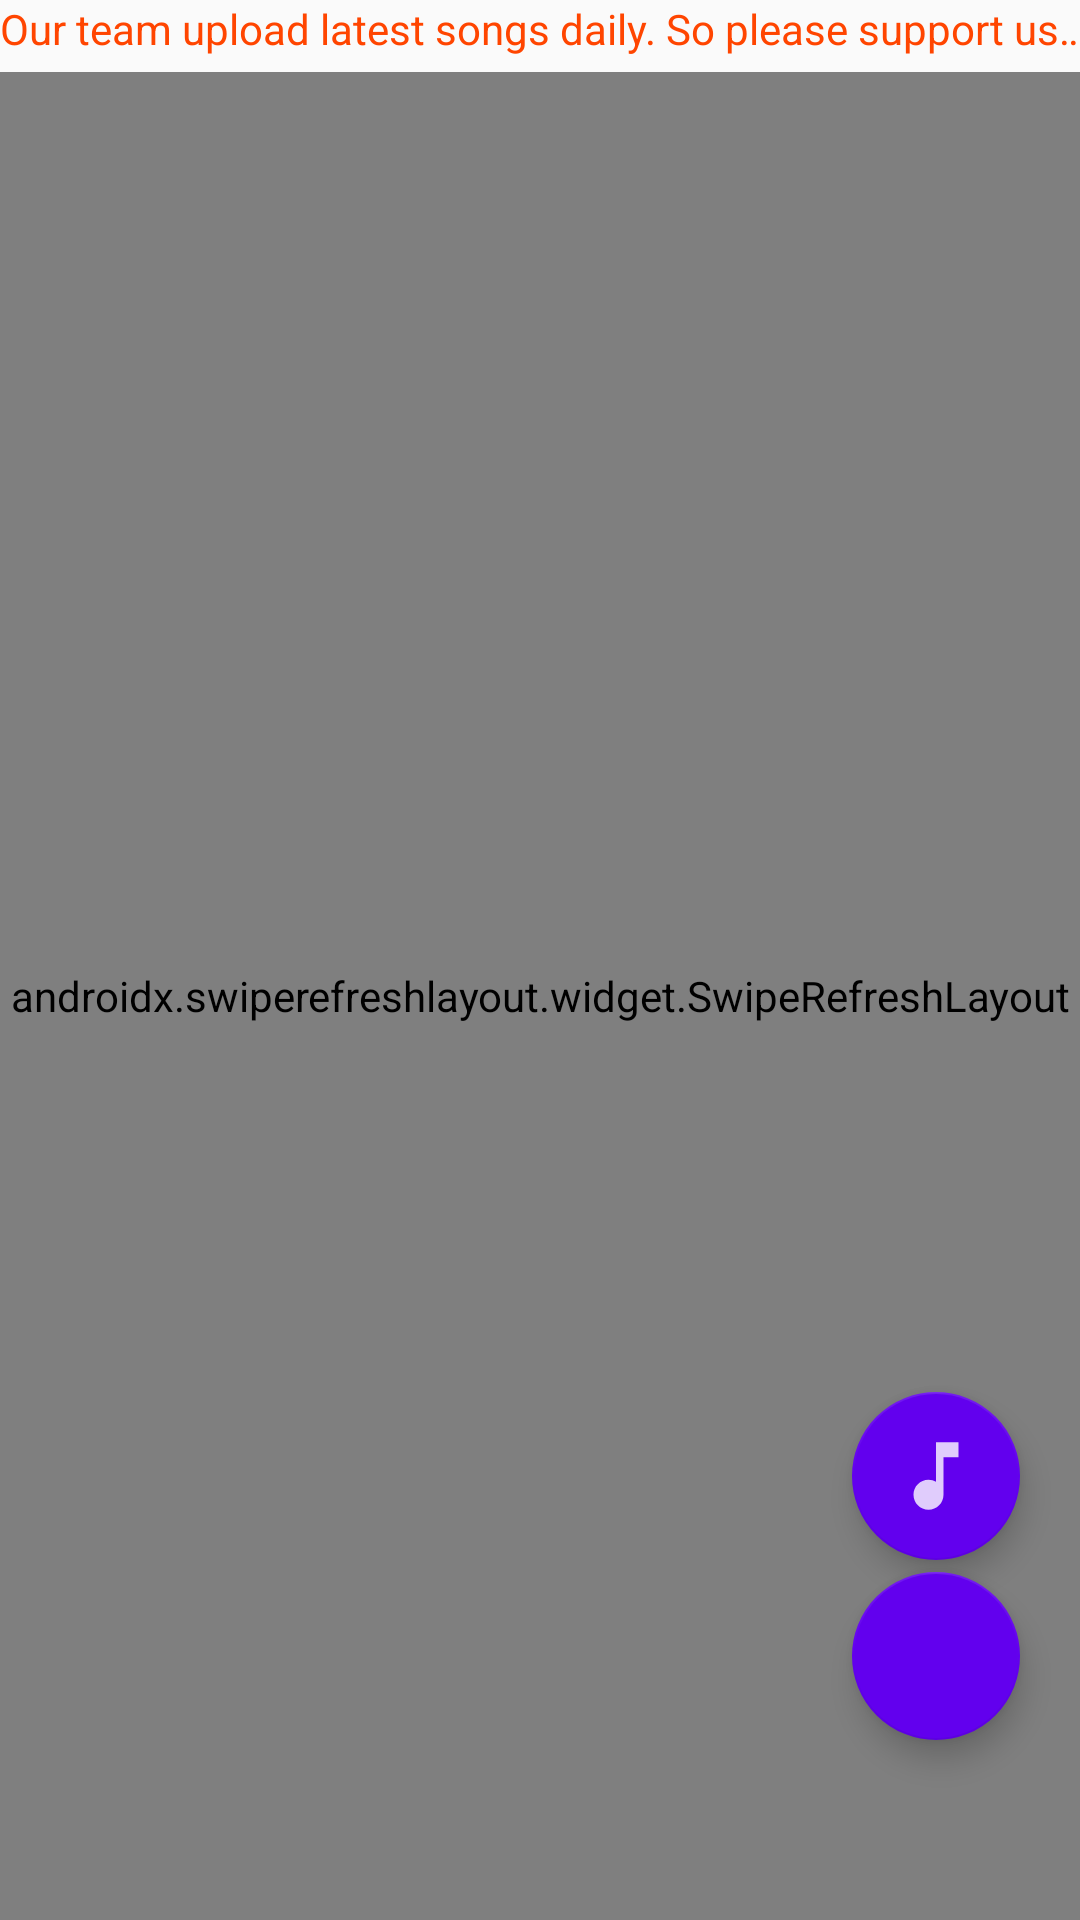

Icons on this 1080x1920 Android screen, each with its box as detection(x1, y1, x2, y2):
music note: detection(852, 1392, 1020, 1560)
